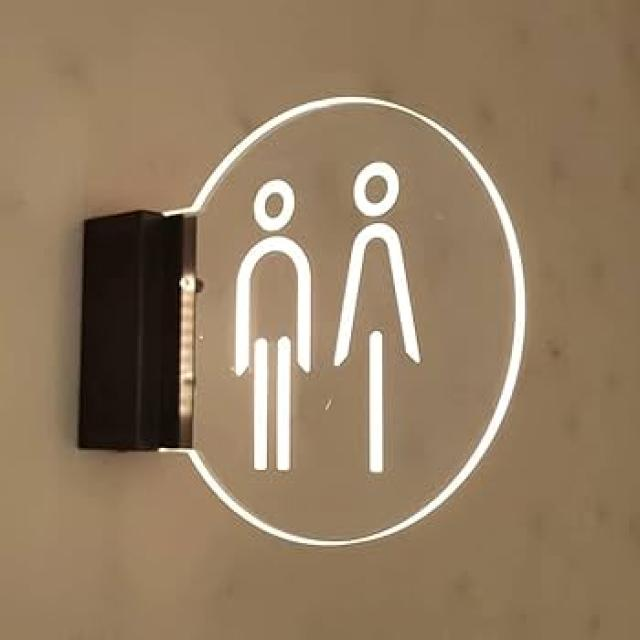toilet_icon: (222, 151, 435, 496)
